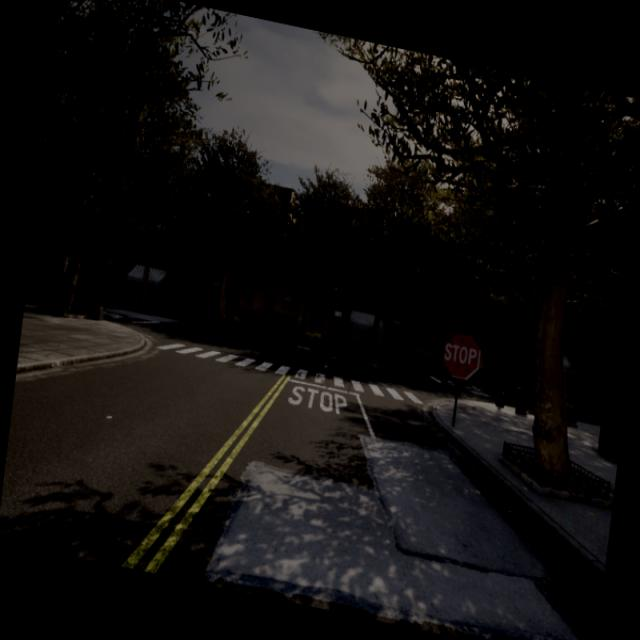stop sign: (440, 331, 482, 382)
